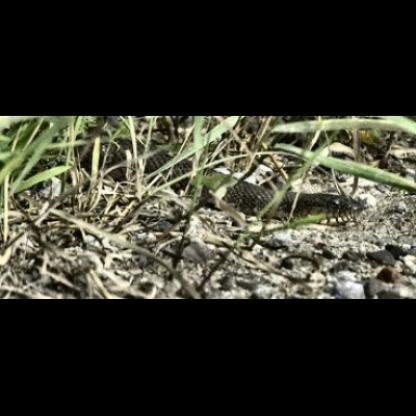Snake: (133, 145, 369, 228)
